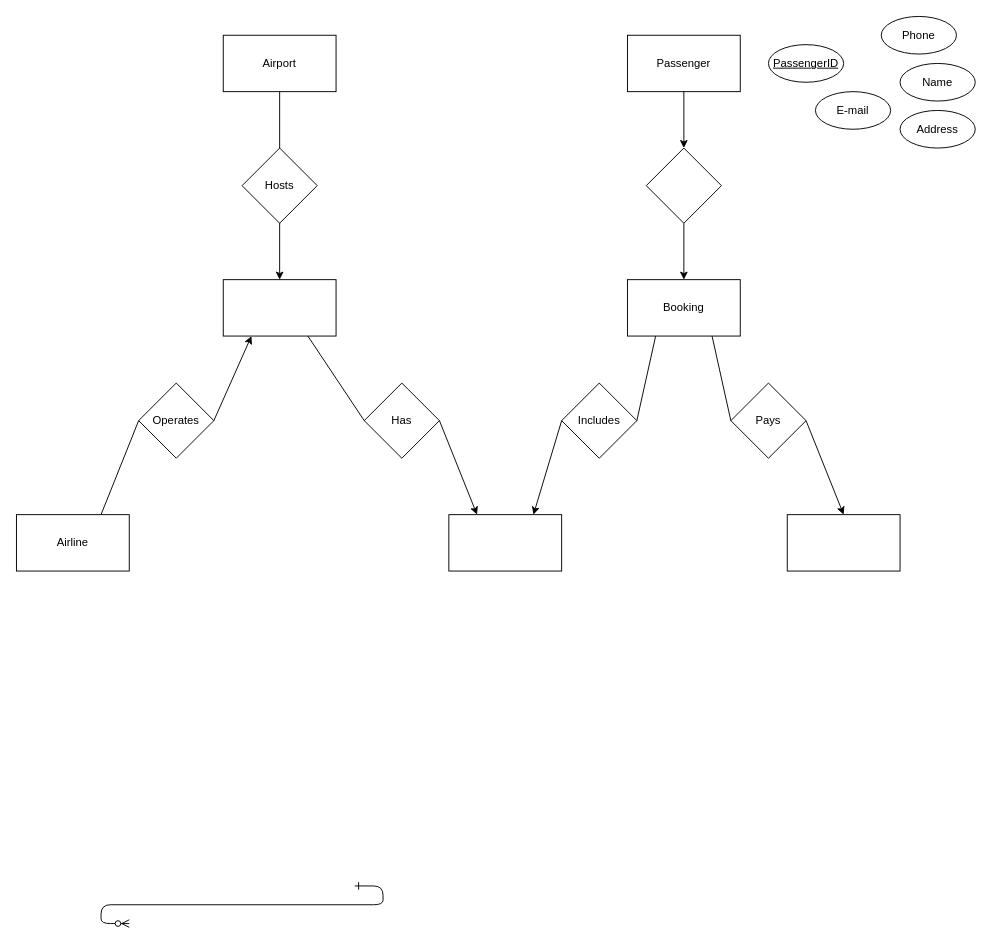
Image size: 992x948. Some labels were removed from this diagram. Here are the shapes that lost their labels. From the top down, the centre of each, then its label:
the point at 683,185: Books
the point at 279,307: Flight
the point at 505,542: Ticket
the point at 843,542: Payment
